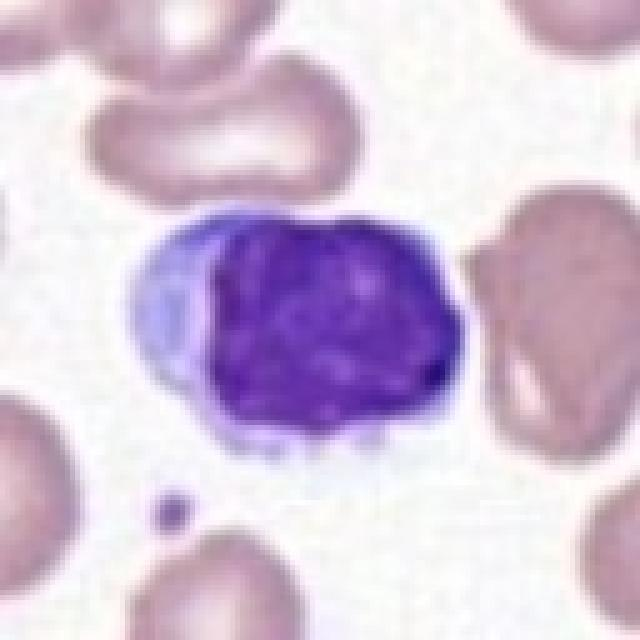lympho: (120, 204, 465, 470)
